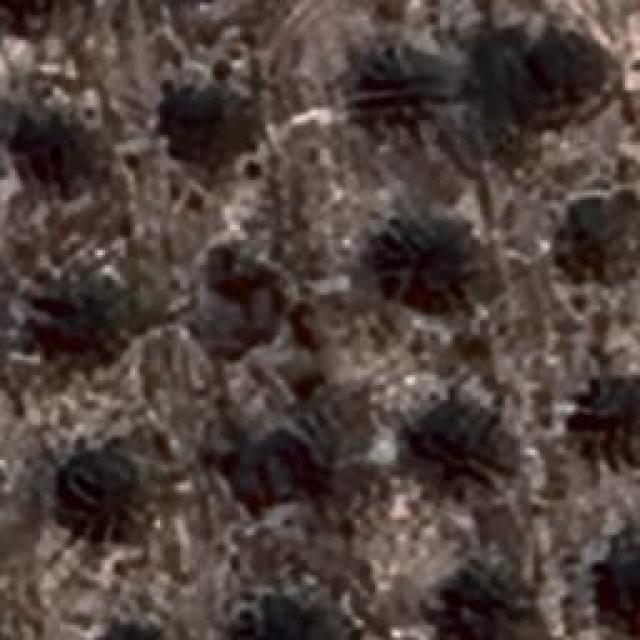PalmTree: (80, 39, 281, 620), (22, 266, 136, 379), (404, 400, 516, 490), (195, 244, 285, 354), (518, 22, 618, 116), (560, 175, 640, 290), (371, 208, 469, 300), (348, 36, 450, 122), (49, 448, 142, 534), (225, 424, 325, 498), (160, 74, 245, 158), (574, 365, 638, 465), (418, 567, 512, 635), (608, 538, 640, 630), (0, 0, 65, 30), (96, 616, 173, 640), (94, 623, 174, 640), (1, 0, 62, 21)
